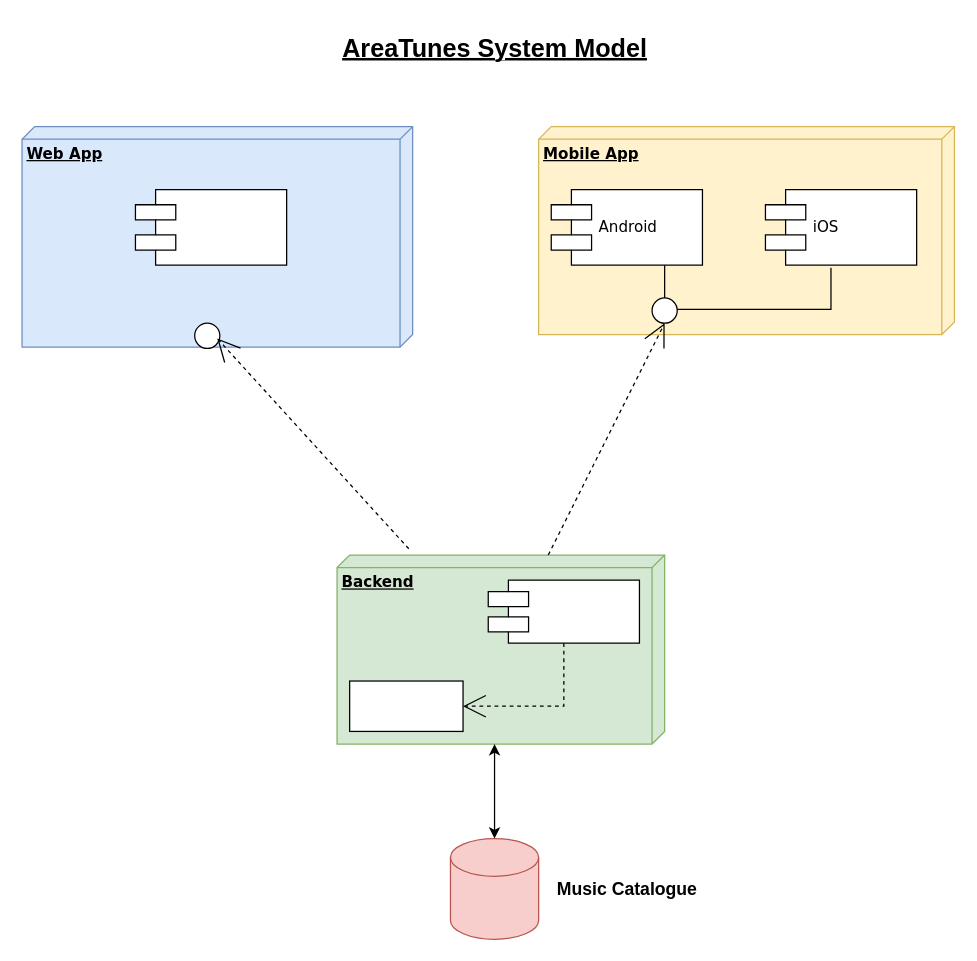
Image size: 977x961. Some labels were removed from this diagram. Here are the shapes that lost their labels. From the top down, the centre of each, then its label:
At [210,226]: "Module".
At [563,611]: "Admin Dashboard".
At [405,705]: "«interface» API".
